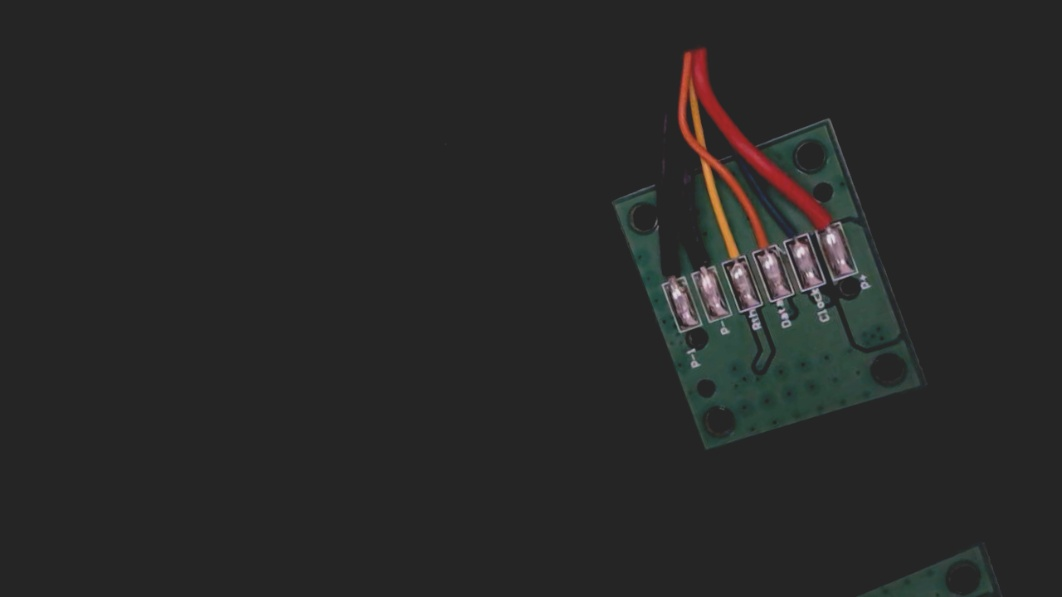Black: (675, 224, 722, 291)
Black1: (646, 239, 690, 300)
Green: (769, 199, 815, 263)
Orange: (738, 204, 783, 269)
Red: (800, 183, 846, 247)
Yellow: (704, 212, 752, 279)
